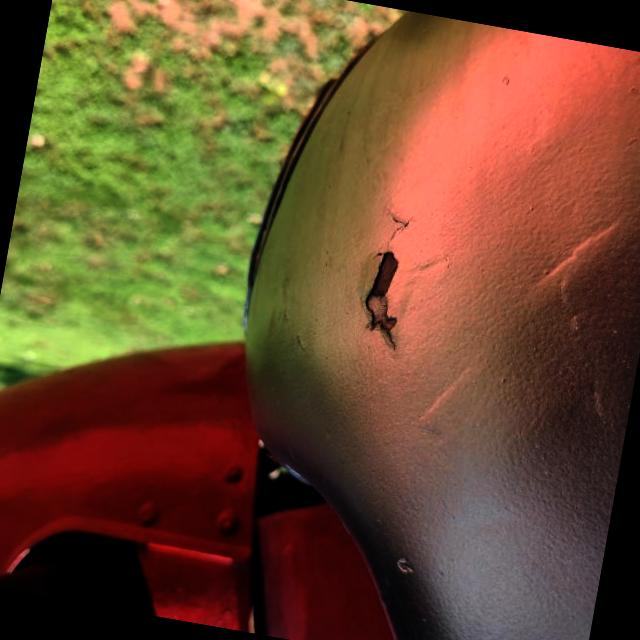paint-off: (331, 230, 429, 368)
